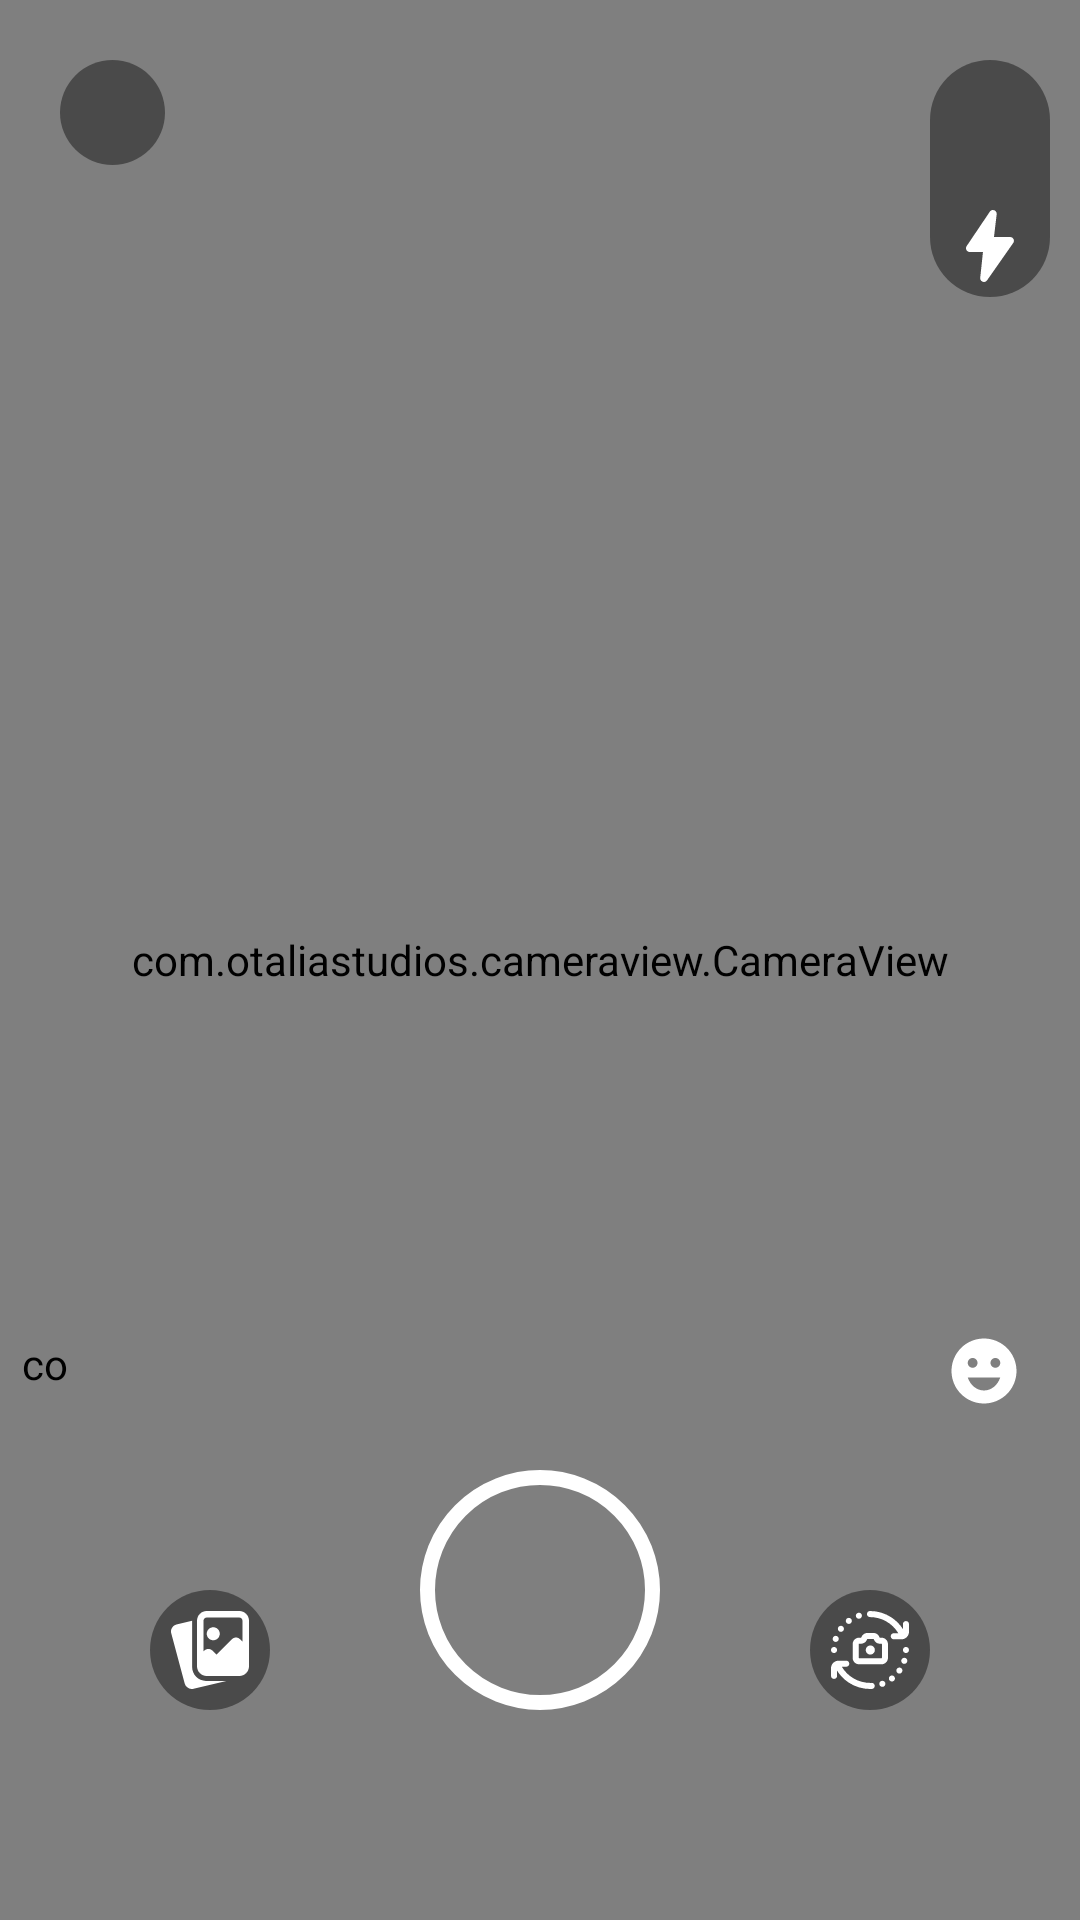

Icons on this 1080×1920 Android screen, each with the point to tap as (x,y):
change: (870,1650)
emoji tint: (984,1371)
flash on: (990,246)
stack tint: (210,1650)
